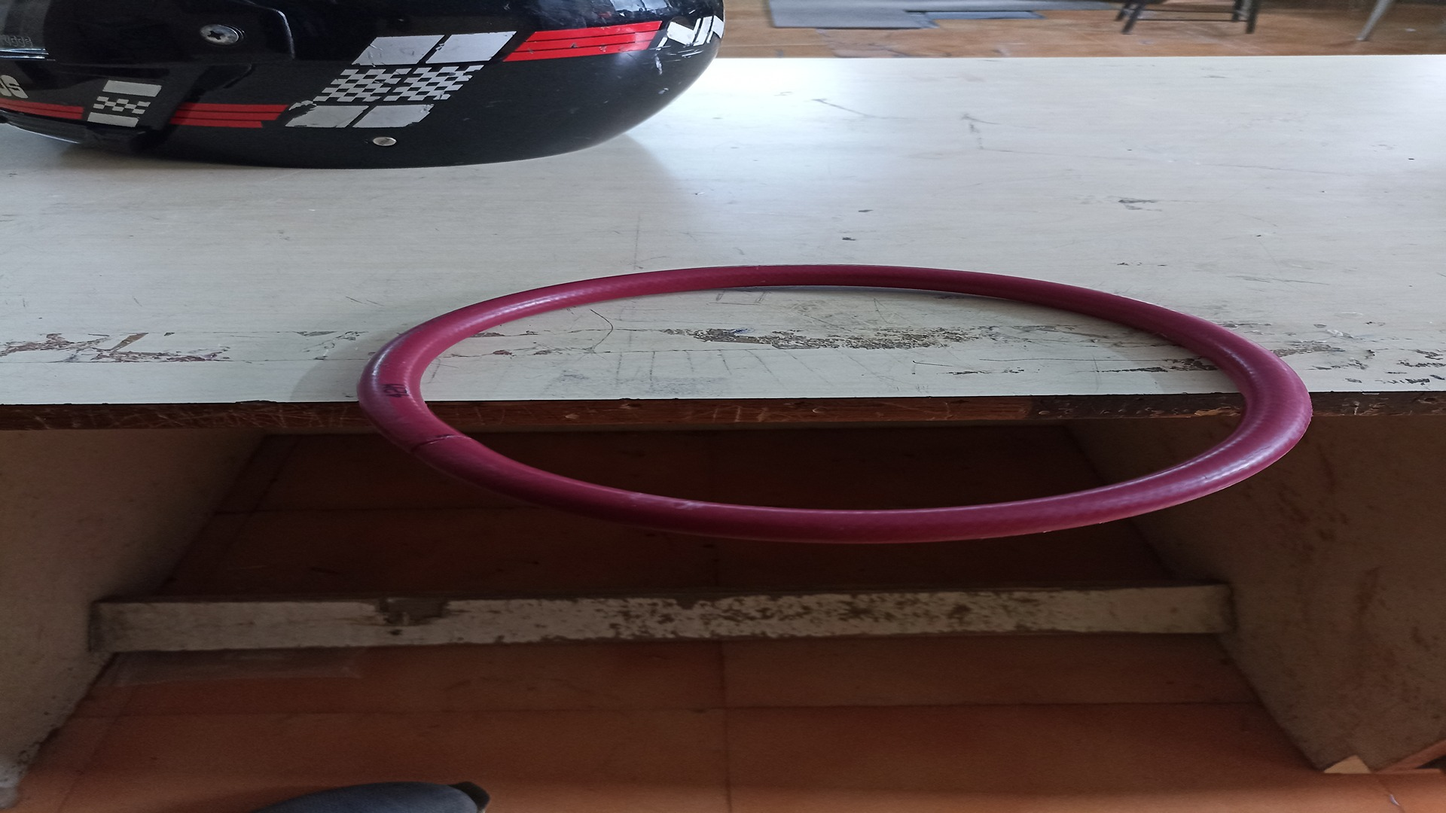Red ring: (367, 262, 1313, 538)
